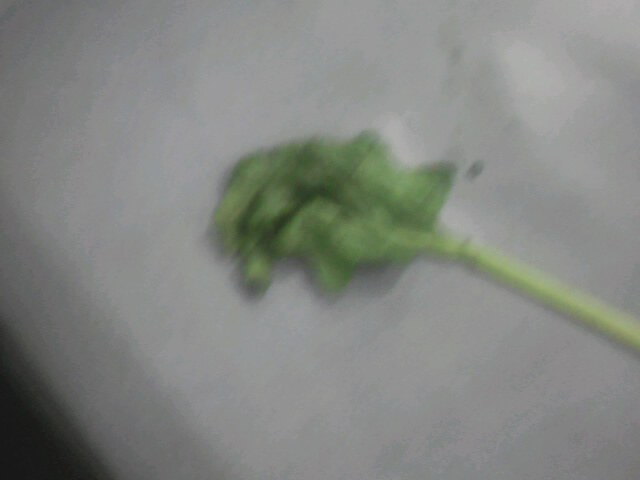yellow: (199, 115, 499, 319)
